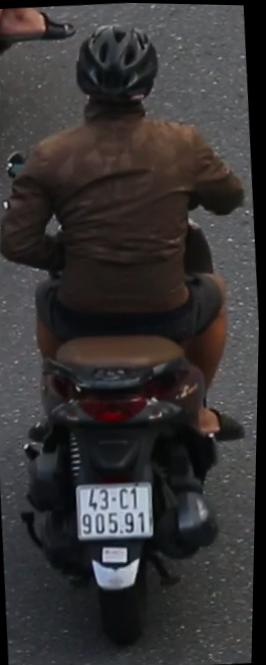LP: (72, 471, 161, 546)
helmet: (68, 16, 168, 137)
